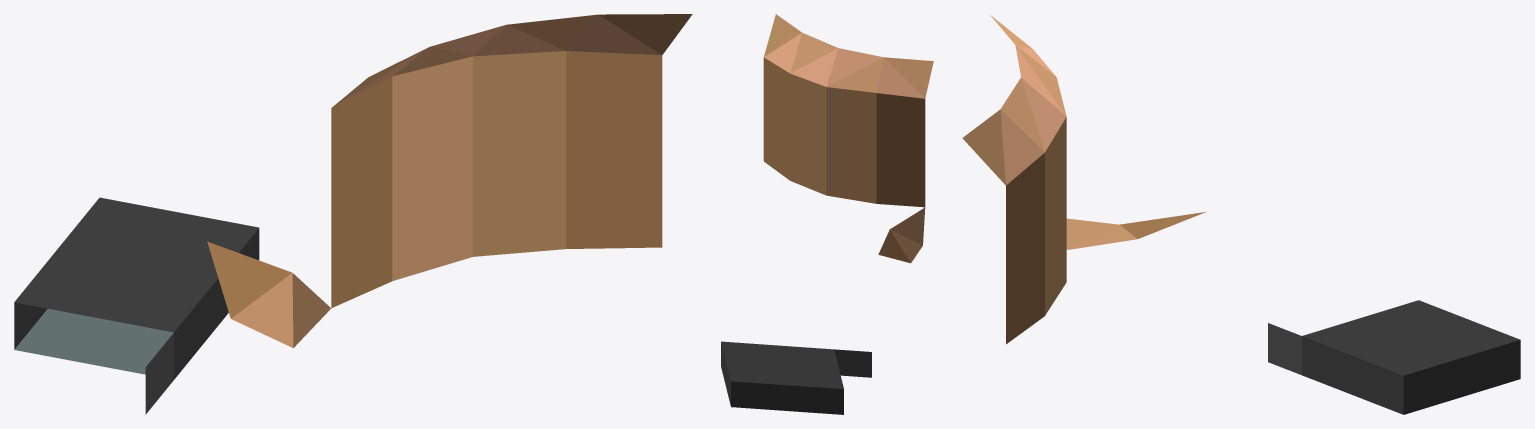
The picture shows the model from 3 angles, left to right: view 1: azimuth 30°, elevation 25°; view 2: azimuth 150°, elevation 25°; view 3: azimuth 270°, elevation 25°; orthographic projection. The views are drawn at different scales.
Parts seen in each view (by area): view 1: O13234; view 2: O13234; view 3: O13234.
Boxes of the visible parts, box(x1,y1,x2,y2) form: O13234: box(14, 14, 692, 414); O13234: box(721, 14, 933, 414); O13234: box(962, 15, 1520, 414).
Bounding box in the file's own units: 53.09 × 56.5 × 77.28.
